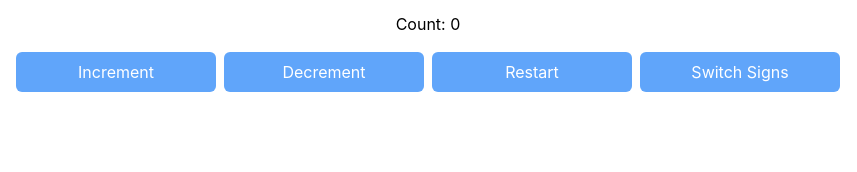
Test: check buttons › count should increment by 1 if the increment button is clicked
Expected: the text with test id "count" reads "0", [450,14,460,34]
Step 1. Click the button "Increment" → point(116, 72), box [16,52,216,92]
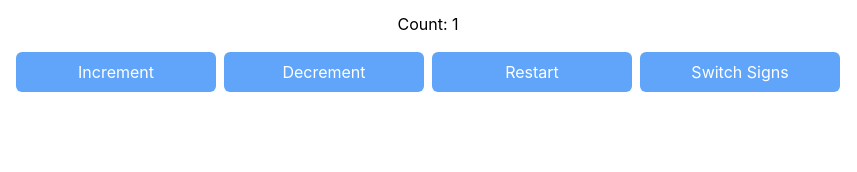
Expected: the text with test id "count" reads "1", [452,14,458,34]
